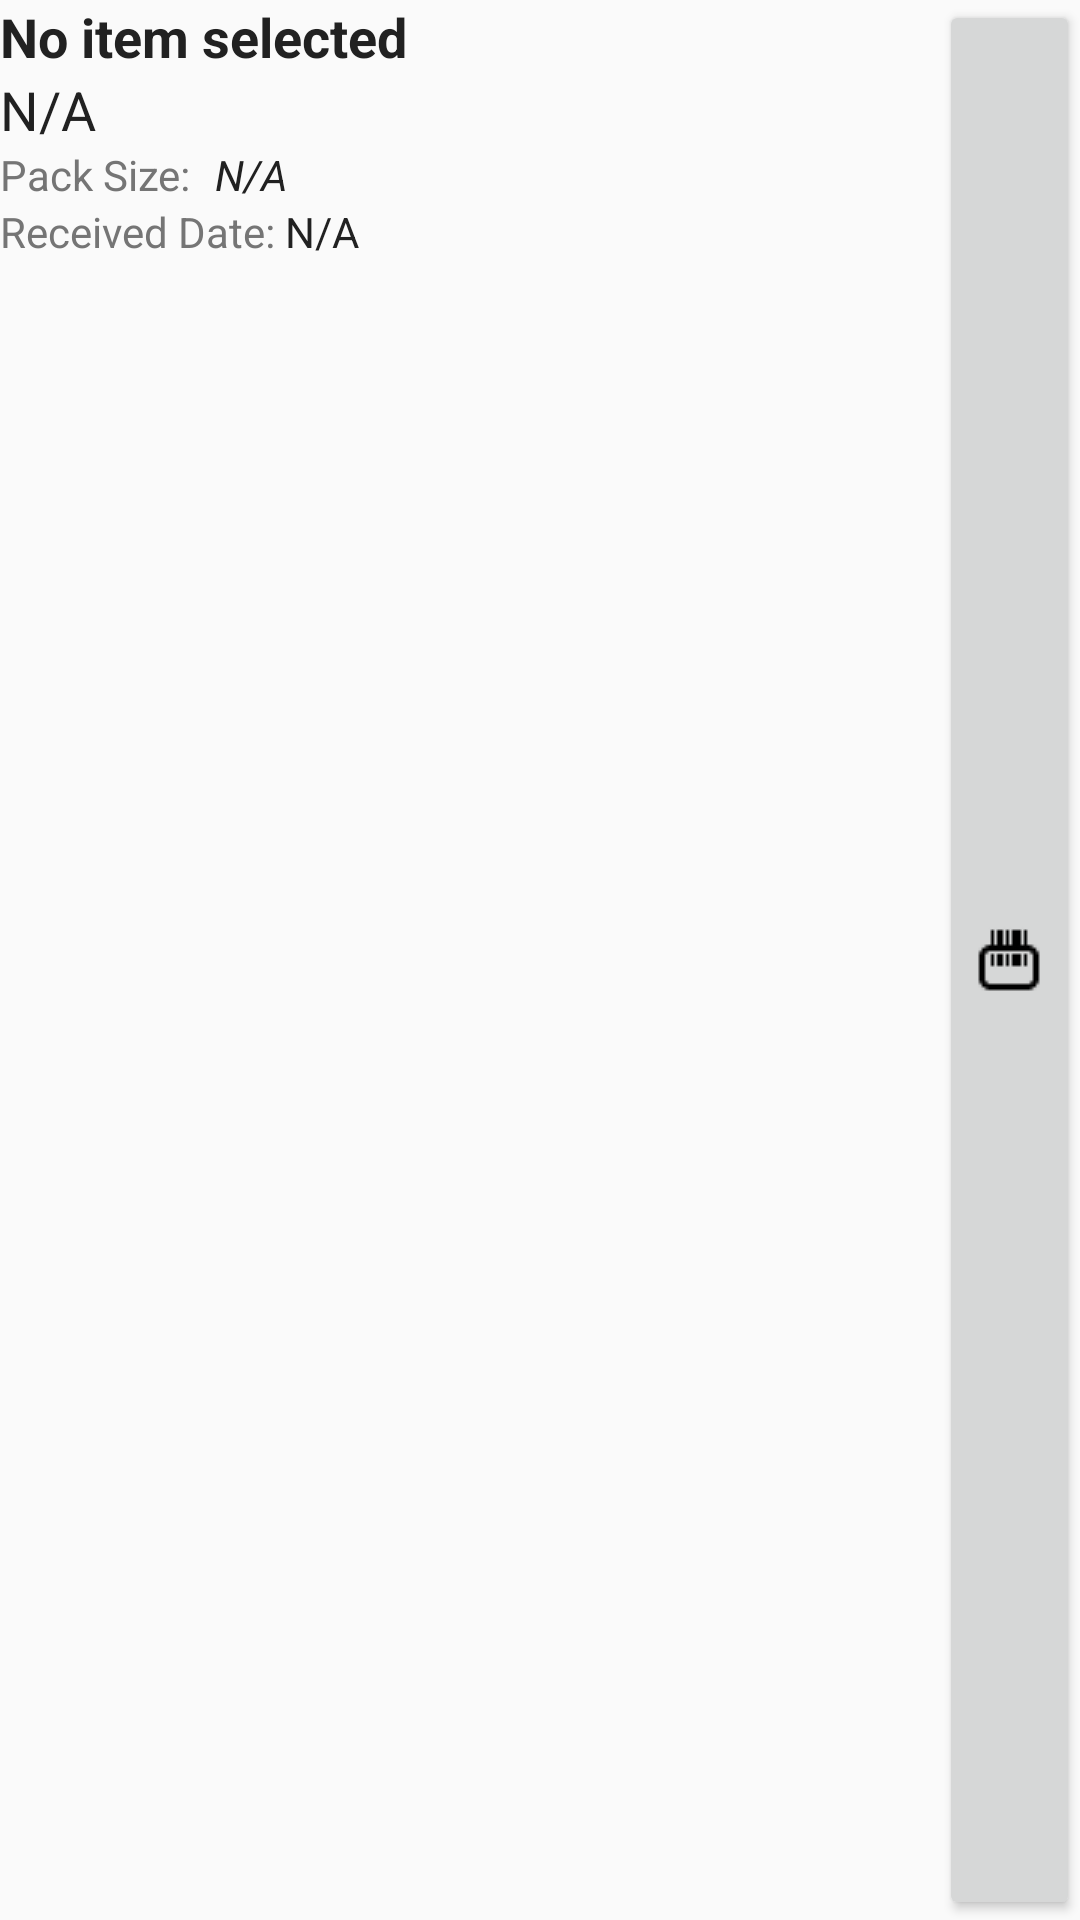

Icons on this 1080×1920 Android screen, each with the point to tap as point (x, y):
barcode scanner: point (1009, 960)
